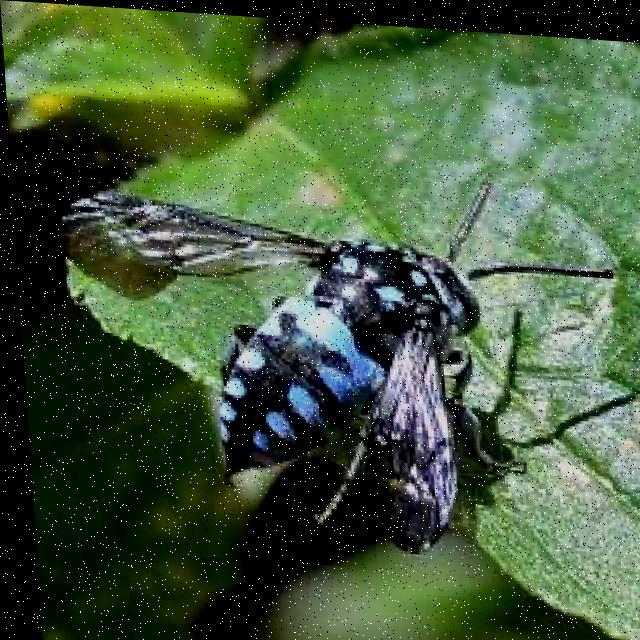Thyreus: (69, 124, 613, 551)
